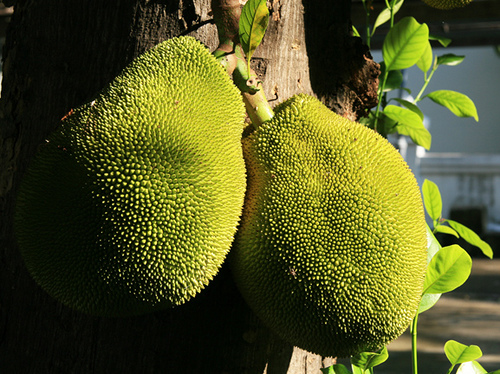jackfruit: (14, 32, 249, 321), (232, 65, 425, 359)
